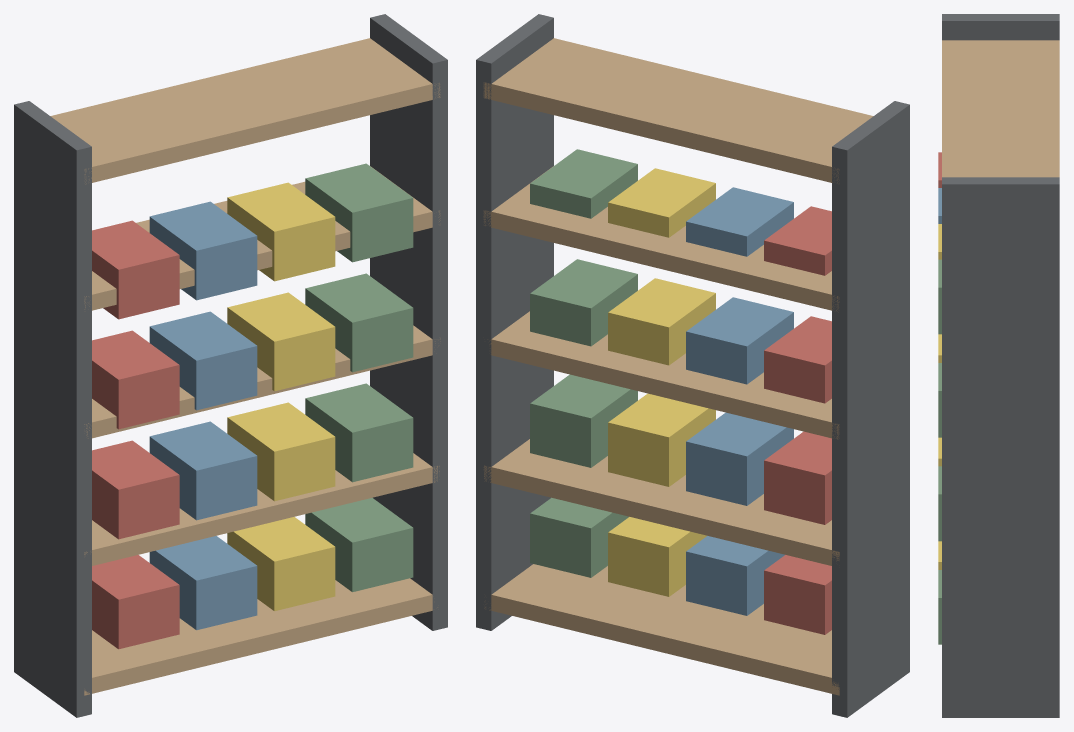
Rendered from parts_rack_03.glb.
The picture shows the model from 3 angles, left to right: view 1: azimuth 30°, elevation 25°; view 2: azimuth 150°, elevation 25°; view 3: azimuth 270°, elevation 25°; orthographic projection. The views are drawn at different scales.
Visible parts, largest first — view 1: side-0.525, side0.525, shelf4, shelf0, shelf1, bin1_1, bin1_2, bin1_3, bin2_1, bin2_2, bin2_3, bin1_0 (+11 smaller); view 2: side-0.525, side0.525, shelf4, shelf0, shelf1, shelf3, shelf2, bin1_3, bin1_2, bin1_1, bin2_1, bin2_2 (+11 smaller); view 3: side0.525, shelf4, side-0.525, bin1_3, bin3_3, bin0_3, bin2_3.
Boxes of the visible parts, <box> form: side-0.525: <box>14,101,91,717</box>; side0.525: <box>370,14,447,630</box>; shelf4: <box>50,38,440,184</box>; shelf0: <box>84,578,437,695</box>; shelf1: <box>84,453,439,565</box>; bin1_1: <box>149,421,257,520</box>; bin1_2: <box>227,402,335,501</box>; bin1_3: <box>305,383,413,482</box>; bin2_1: <box>149,311,257,410</box>; bin2_2: <box>227,292,335,391</box>; bin2_3: <box>305,273,413,372</box>; bin1_0: <box>92,440,179,539</box>; side-0.525: <box>832,101,909,717</box>; side0.525: <box>476,14,553,630</box>; shelf4: <box>483,38,873,183</box>; shelf0: <box>484,564,839,695</box>; shelf1: <box>483,439,839,565</box>; shelf3: <box>483,166,839,312</box>; shelf2: <box>487,311,839,439</box>; bin1_3: <box>530,374,637,467</box>; bin1_2: <box>608,393,715,486</box>; bin1_1: <box>686,412,793,505</box>; bin2_1: <box>686,297,793,384</box>; bin2_2: <box>608,278,715,365</box>; side0.525: <box>942,177,1059,717</box>; shelf4: <box>942,40,1059,177</box>; side-0.525: <box>942,14,1059,40</box>; bin1_3: <box>938,466,941,541</box>; bin3_3: <box>938,259,941,334</box>; bin0_3: <box>938,570,941,644</box>; bin2_3: <box>938,363,941,437</box>.
Bounding box in the file's own units: 1.1 × 1.6 × 0.33.
